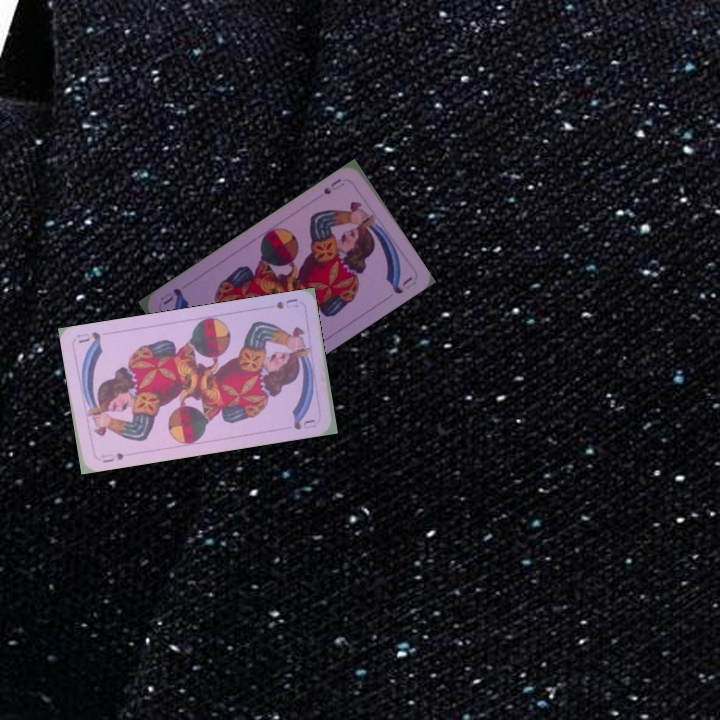SU: (319, 175, 347, 197), (272, 294, 301, 312), (98, 448, 126, 465)
